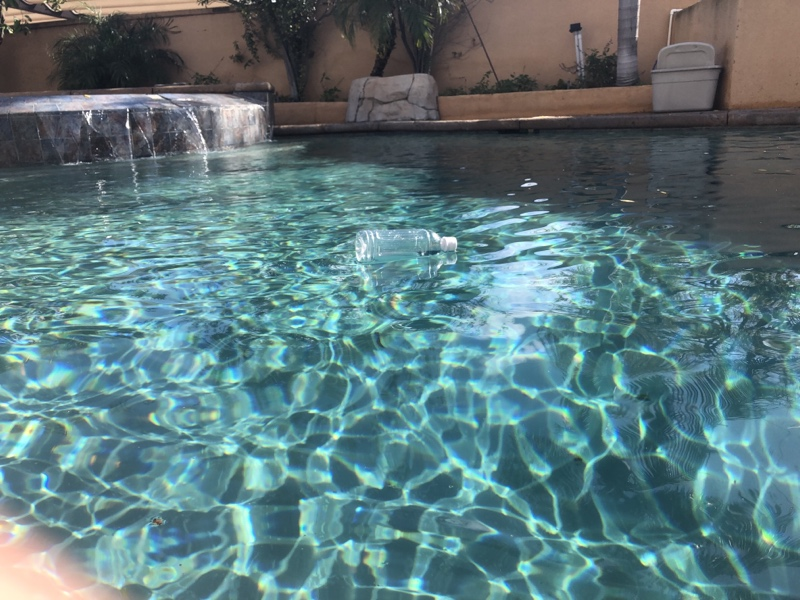Plastic Bottle: (350, 225, 463, 264)
